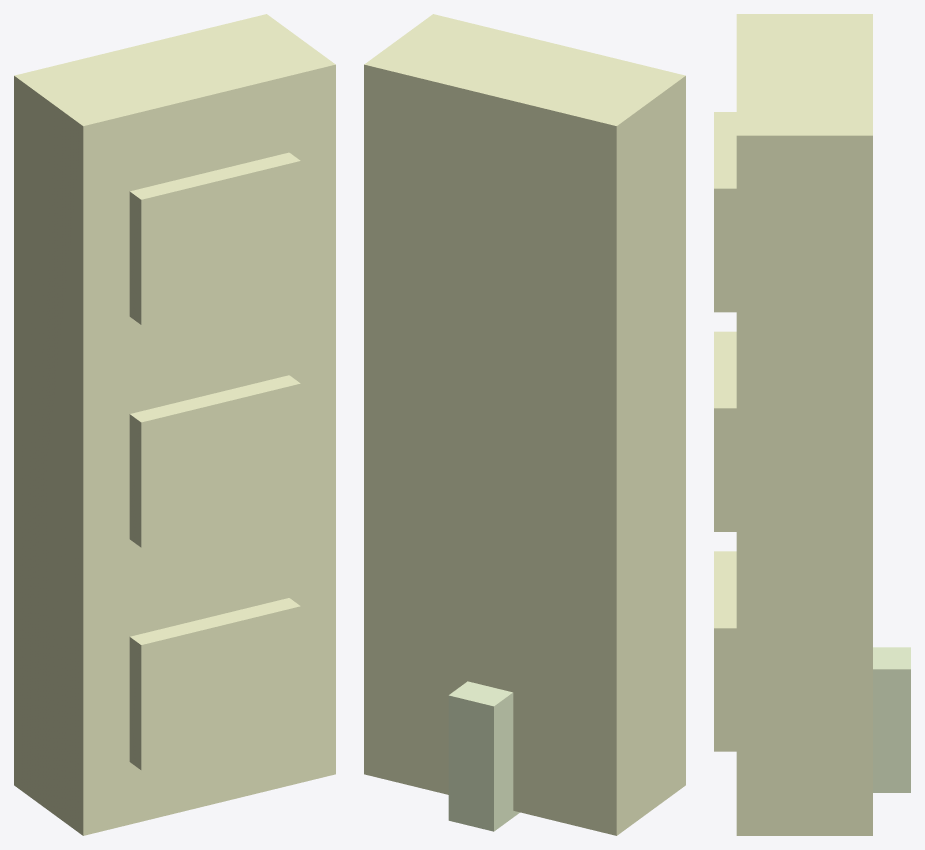
File: signal_bicycle_vertical_3_aspect.glb
The picture shows the model from 3 angles, left to right: view 1: azimuth 30°, elevation 25°; view 2: azimuth 150°, elevation 25°; view 3: azimuth 270°, elevation 25°; orthographic projection.
Parts seen in each view (by area): view 1: housing, display_bike_yellow, display_bike_red, display_bike_green; view 2: housing, bracket; view 3: housing, bracket, display_bike_red, display_bike_yellow, display_bike_green.
Boxes of the visible parts, box(x1,y1,x2,y2) form: housing: box(14, 14, 335, 835); display_bike_yellow: box(129, 375, 300, 547); display_bike_red: box(129, 152, 300, 324); display_bike_green: box(129, 598, 300, 770); housing: box(364, 14, 685, 835); bracket: box(448, 681, 519, 831); housing: box(736, 14, 872, 835); bracket: box(873, 647, 910, 792); display_bike_red: box(714, 112, 736, 312); display_bike_yellow: box(714, 331, 736, 531); display_bike_green: box(714, 551, 736, 751).
Size of the model in its own units: 0.38 by 1.03 by 0.26.
